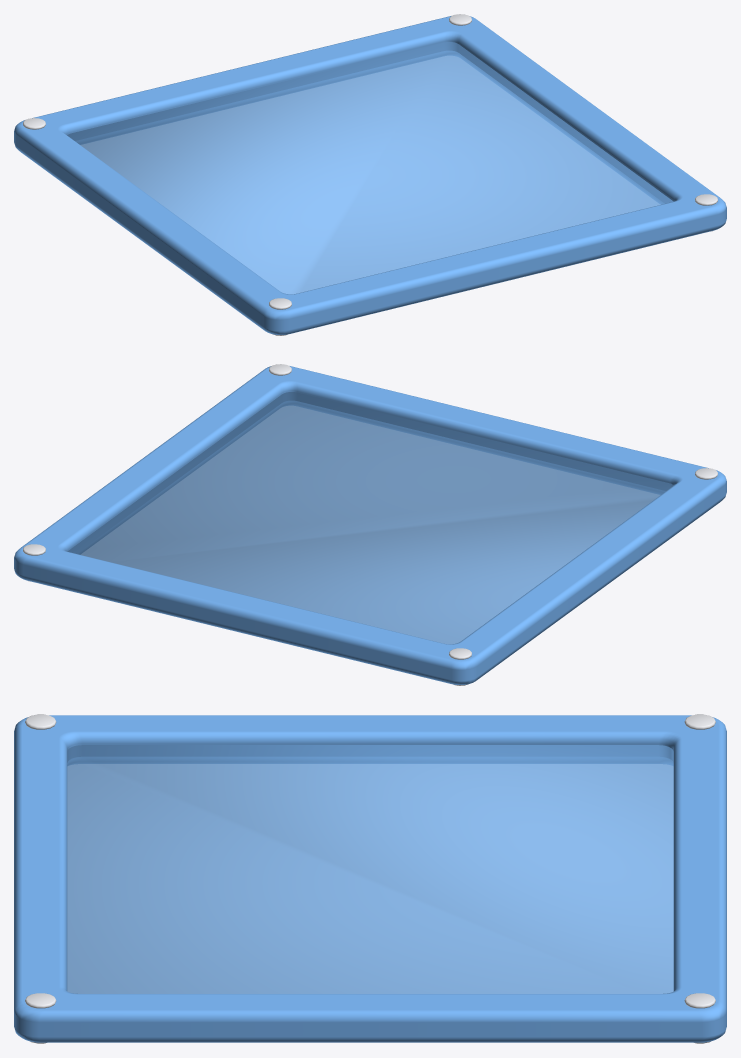
File: square.glb
3 views of the same model, one above another, from view 1: azimuth 30°, elevation 25°; view 2: azimuth 150°, elevation 25°; view 3: azimuth 270°, elevation 25° (orthographic). The views are drawn at different scales.
Visible parts, largest first — view 1: Panel, Frame, Rivets; view 2: Panel, Frame, Rivets; view 3: Panel, Frame, Rivets.
Boxes of the visible parts, bbox=[...] form: Panel: bbox=[67, 42, 673, 294]; Frame: bbox=[14, 16, 726, 334]; Rivets: bbox=[23, 14, 717, 335]; Panel: bbox=[67, 392, 673, 644]; Frame: bbox=[14, 366, 726, 684]; Rivets: bbox=[23, 364, 717, 685]; Panel: bbox=[67, 745, 673, 993]; Frame: bbox=[14, 715, 726, 1042]; Rivets: bbox=[25, 714, 715, 1043].
Size of the model in its own units: 1 by 0.06 by 1.
